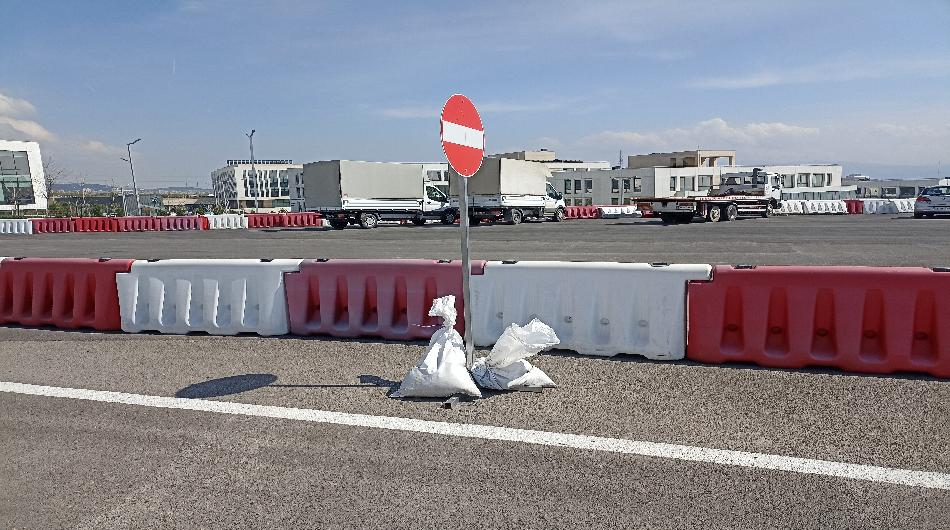girilmez: (437, 92, 490, 179)
